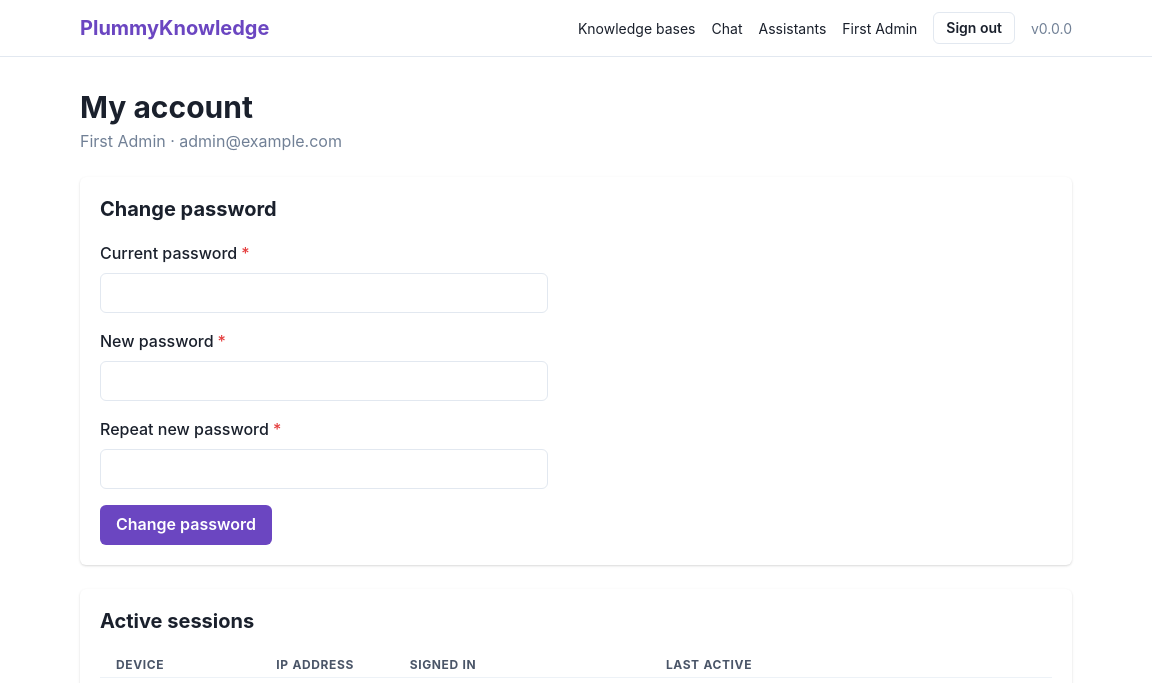
AccountPage › shows a wrong current password on its field
Type "wrong one entirely" into the password field labelled "Current password*" at (324, 293), box [100, 273, 548, 313]
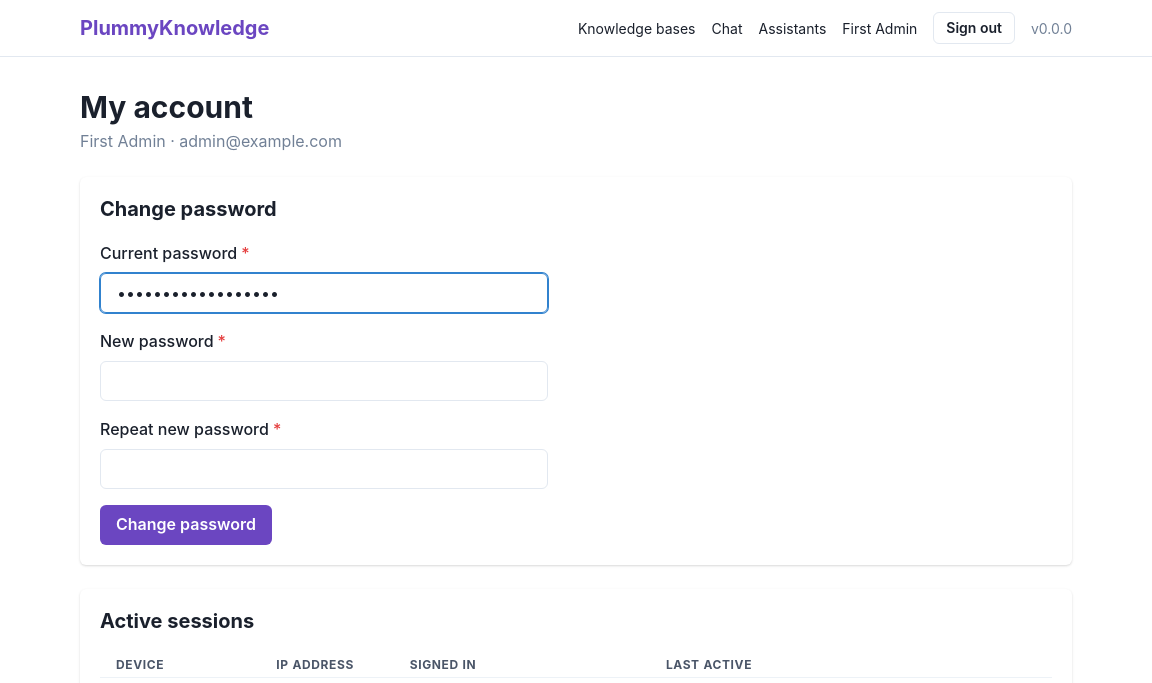
Type "brand new passphrase" into the password field labelled "New password*" at (324, 381), box [100, 361, 548, 401]
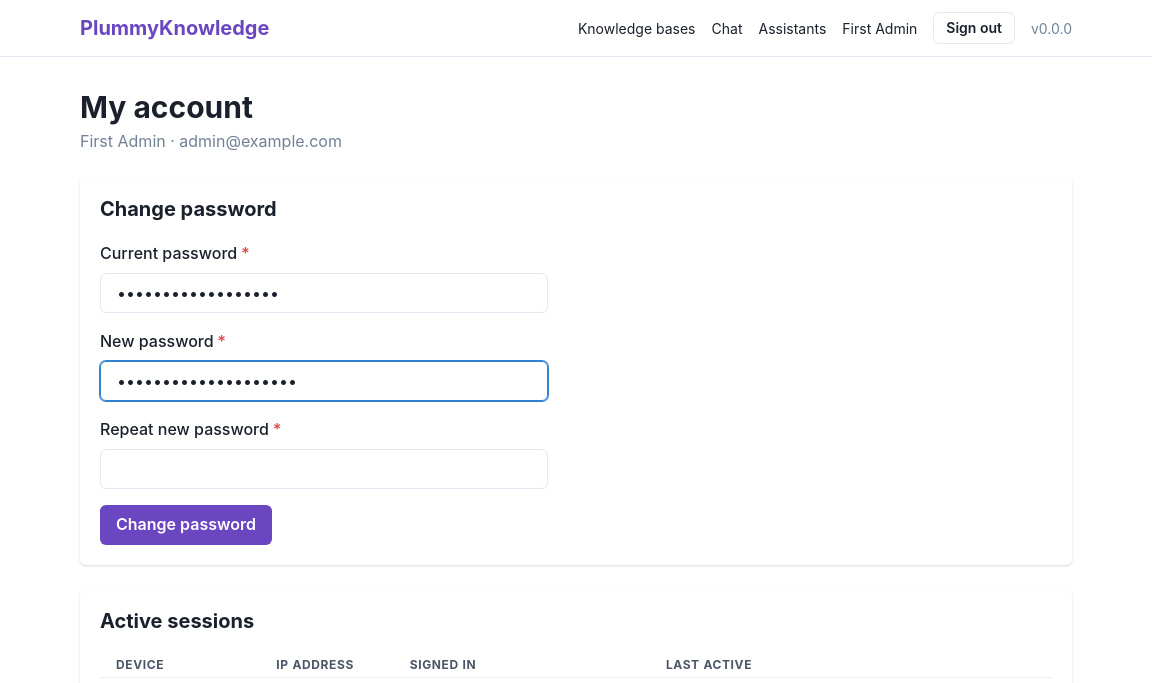
Type "brand new passphrase" into the password field labelled "Repeat new password*" at (324, 469), box [100, 449, 548, 489]
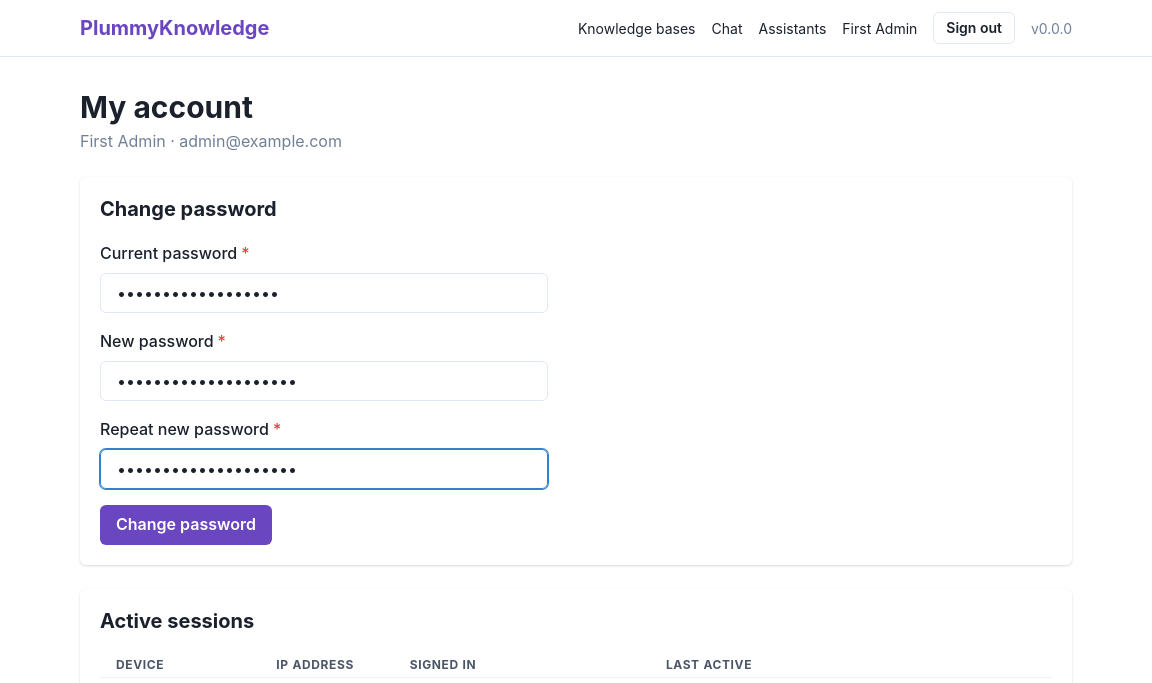
Click the button "Change password" at (186, 525), box [100, 505, 272, 545]
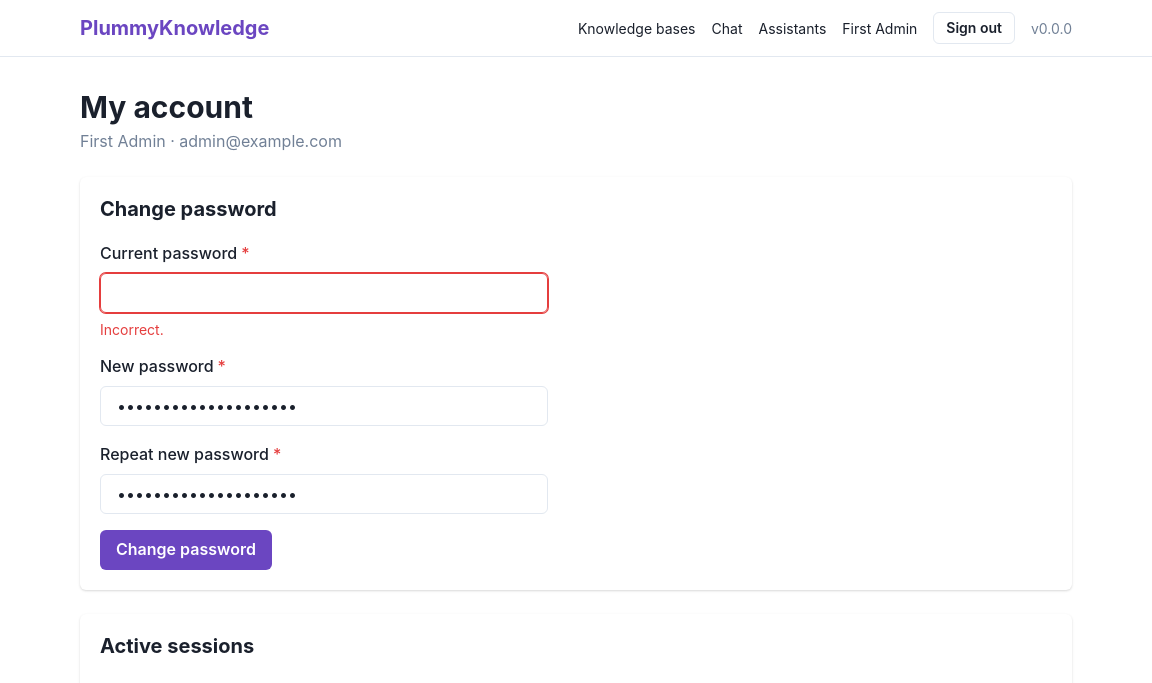
expect the text "Incorrect." is shown: met, box [100, 321, 164, 338]
